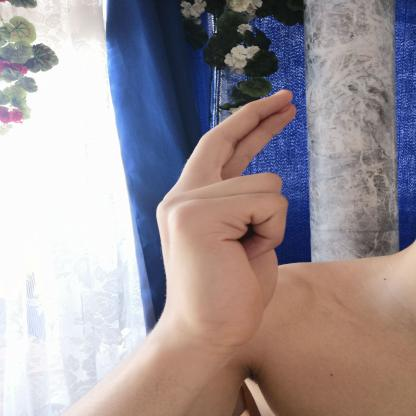ZAY: (141, 78, 308, 363)
